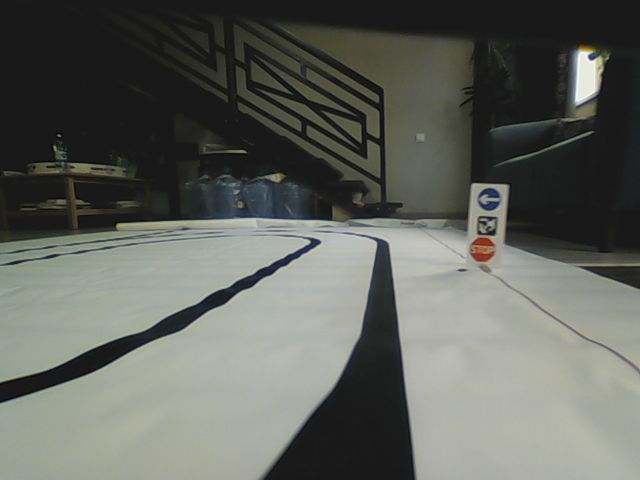Stop: (469, 236, 495, 262)
